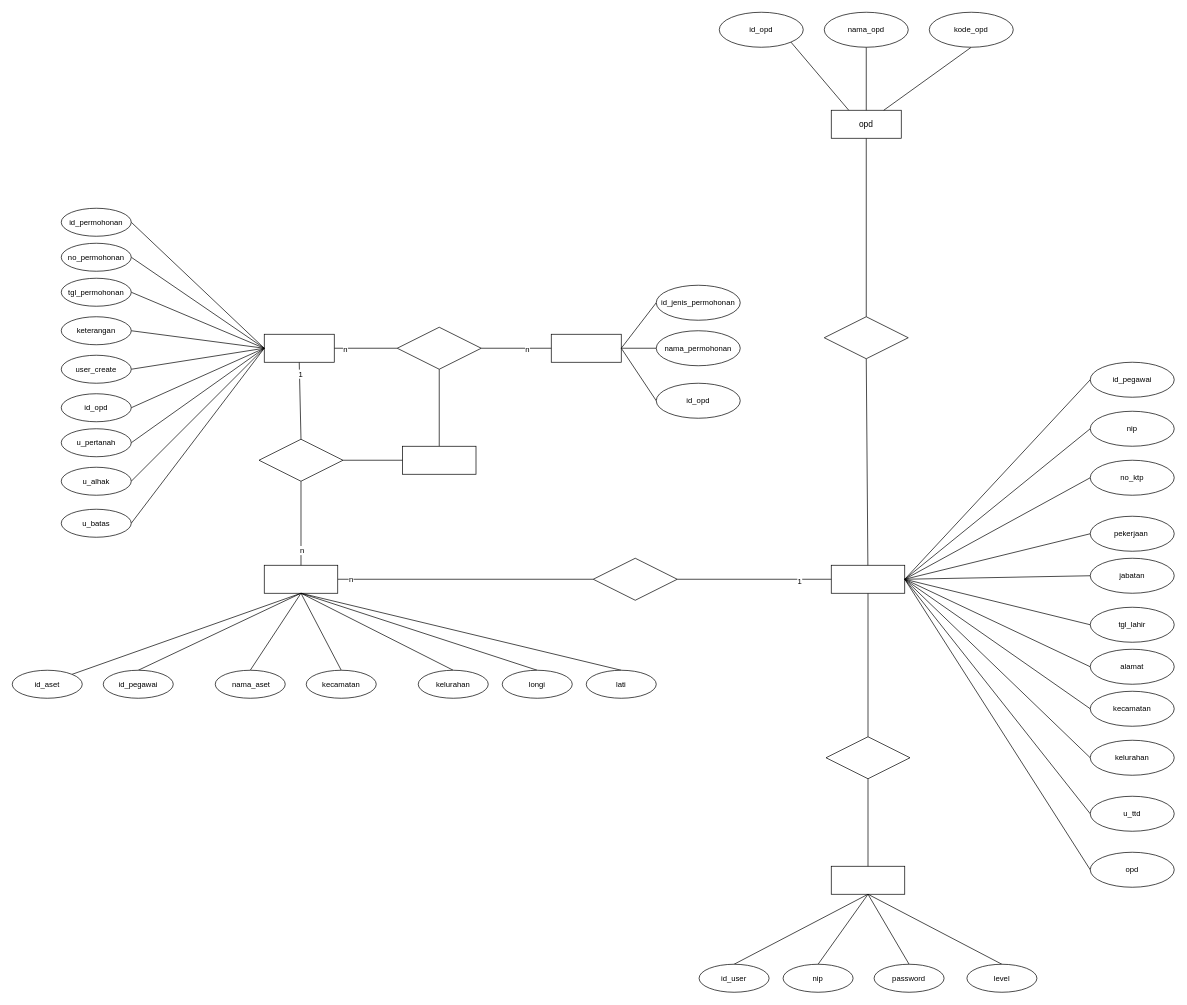
The diagram is 1187 pixels wide and 1005 high, and some of its shapes have lost their labels. Here are the shapes that lost their labels. From the top down, the box of each, then its label:
(264, 334, 334, 362): Permohonan
(551, 334, 621, 362): Jenis Permohonan
(402, 446, 476, 474): trans_permohonan
(264, 565, 338, 593): data aset
(831, 565, 905, 593): pegawai
(831, 866, 905, 894): user
